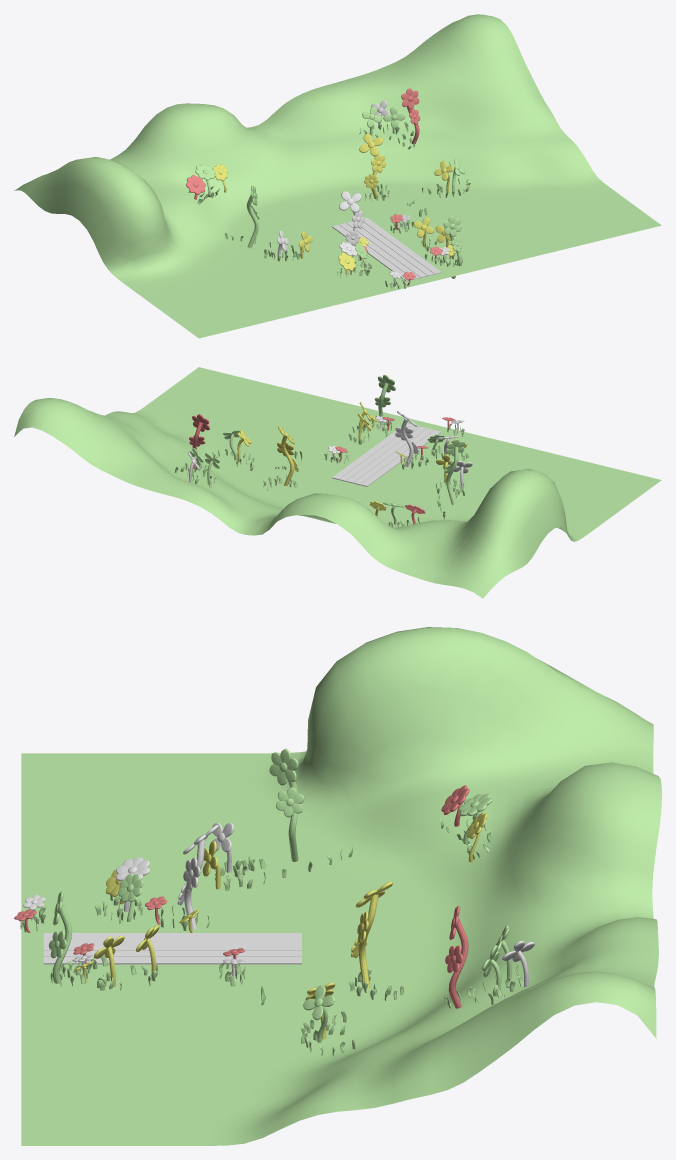
The picture shows the model from 3 angles, top to bottom: view 1: azimuth 30°, elevation 25°; view 2: azimuth 150°, elevation 25°; view 3: azimuth 270°, elevation 25°; orthographic projection. The views are drawn at different scales.
Parts seen in each view (by area): view 1: pPlane3, pCube1, mutuba5, mutuba7, mutuba4, mutuba6; view 2: pPlane3, pCube1, mutuba8, mutuba7, mutuba5, mutuba6, mutuba4; view 3: pPlane3, pCube1, mutuba8, mutuba5, mutuba4, mutuba7, mutuba6, yotuba7.
Boxes of the visible parts, <box> form: pPlane3: <box>14,14,661,338</box>; pCube1: <box>332,218,441,281</box>; mutuba5: <box>359,134,386,199</box>; mutuba7: <box>339,191,364,246</box>; mutuba4: <box>401,88,420,144</box>; mutuba6: <box>443,216,462,278</box>; pPlane3: <box>14,367,661,598</box>; pCube1: <box>332,423,441,486</box>; mutuba8: <box>444,439,464,504</box>; mutuba7: <box>395,411,418,466</box>; mutuba5: <box>277,426,298,485</box>; mutuba6: <box>374,374,395,422</box>; mutuba4: <box>189,414,209,469</box>; pPlane3: <box>21,627,661,1145</box>; pCube1: <box>43,933,301,964</box>; mutuba8: <box>269,748,304,861</box>; mutuba5: <box>351,881,392,989</box>; mutuba4: <box>445,906,468,1008</box>; mutuba7: <box>177,825,218,929</box>; mutuba6: <box>48,891,72,983</box>; yotuba7: <box>303,985,334,1042</box>.
Bounding box in the file's own units: 271 × 56.05 × 183.
